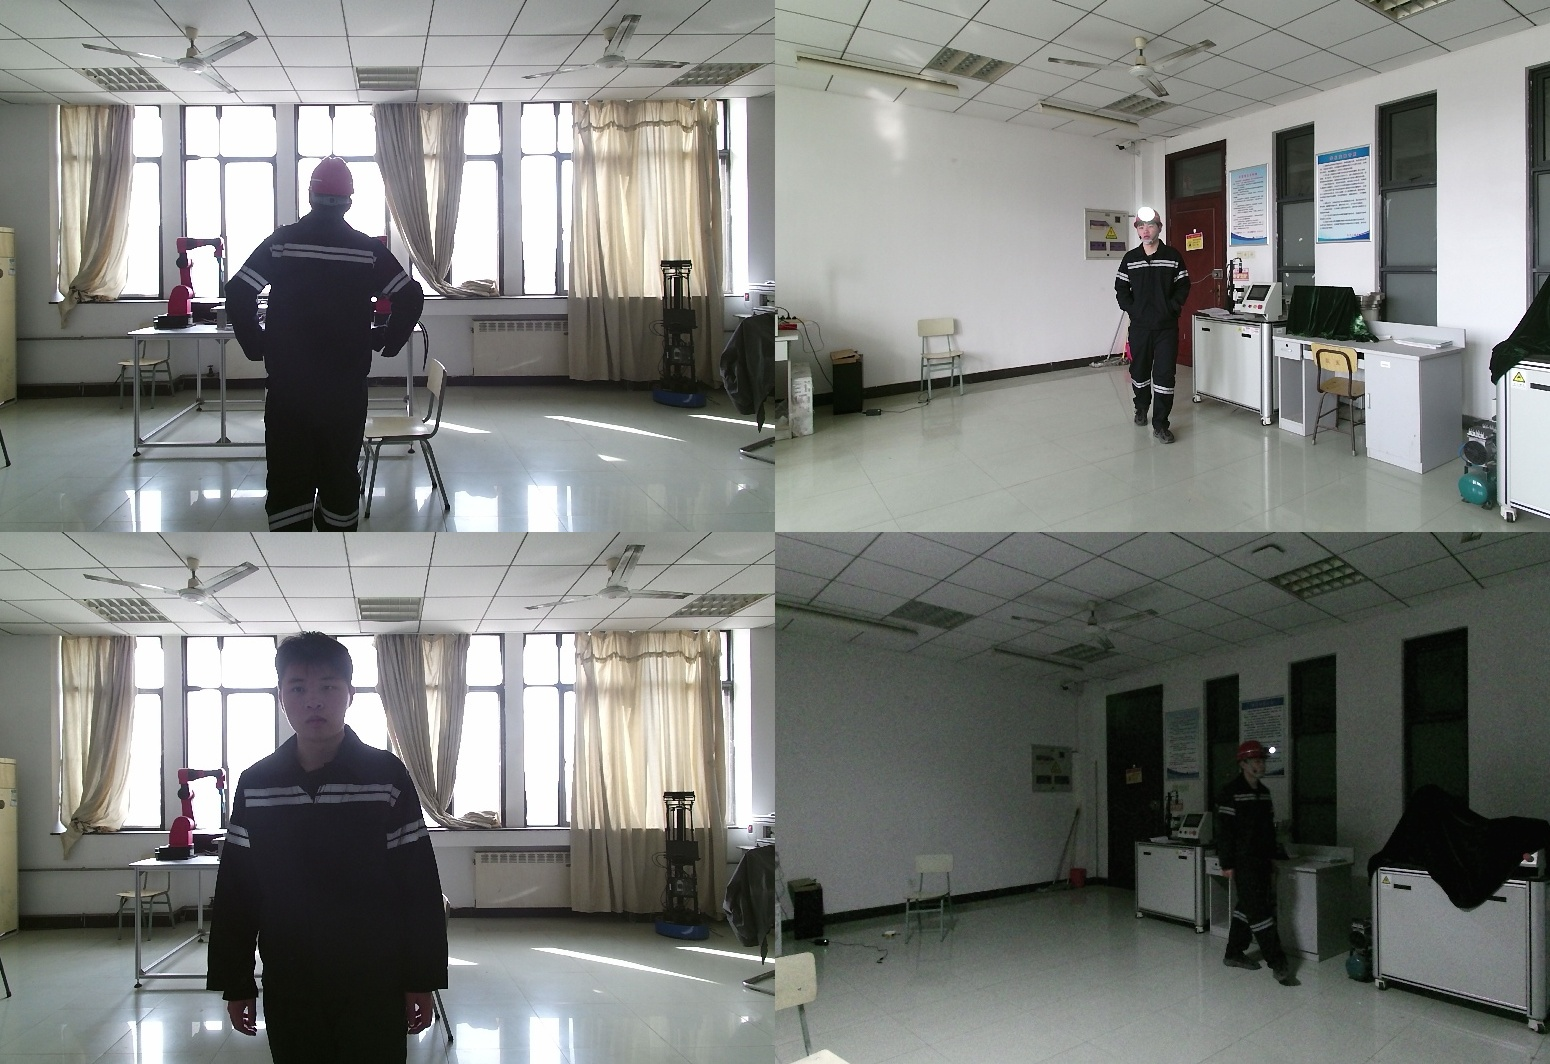person: (220, 632, 459, 1064), (225, 157, 441, 532), (1211, 739, 1300, 983), (1114, 213, 1197, 442)
